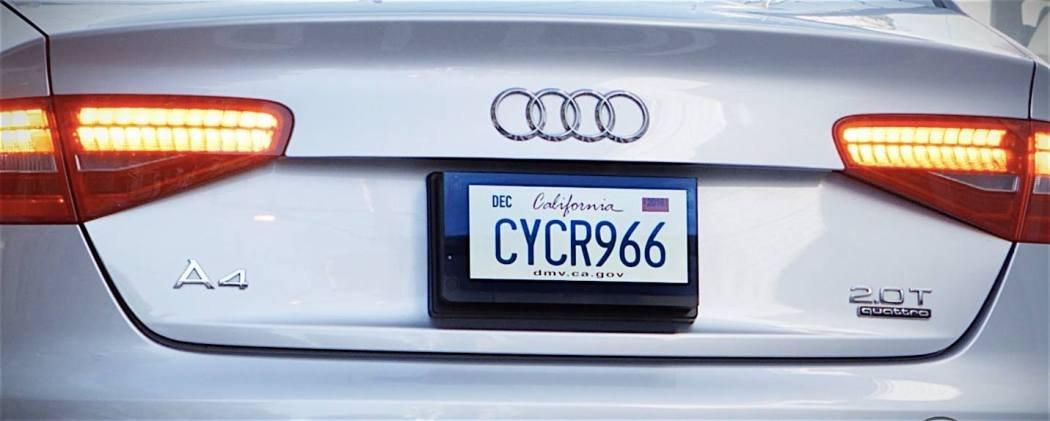Liscence Plate: (440, 174, 694, 298)
